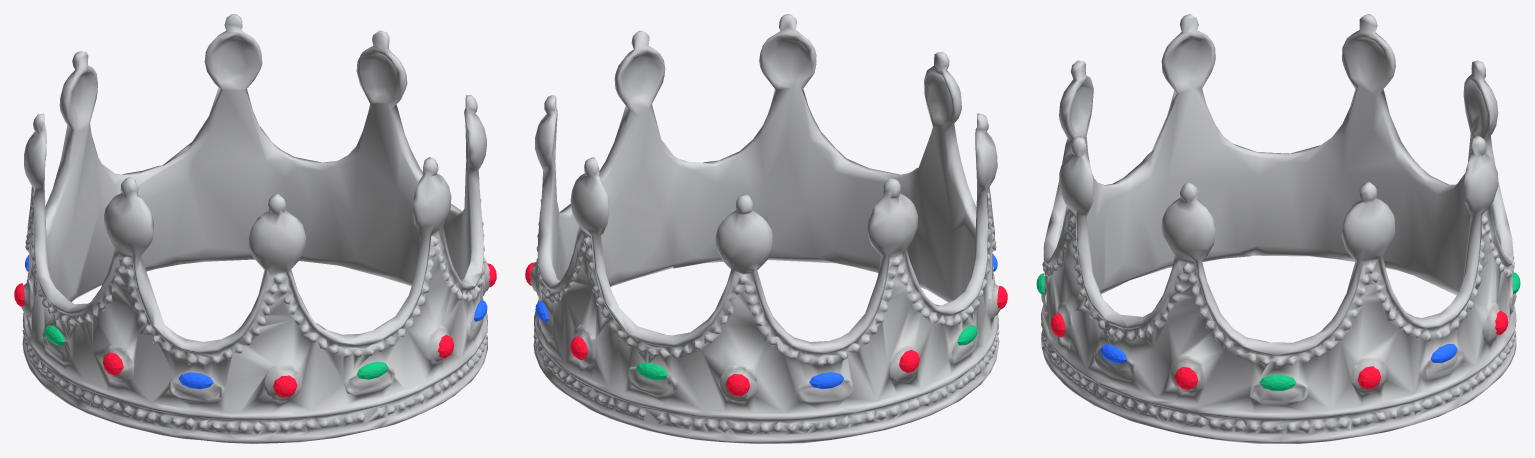
Rendered from silver-crown.glb.
The picture shows the model from 3 angles, left to right: view 1: azimuth 30°, elevation 25°; view 2: azimuth 150°, elevation 25°; view 3: azimuth 270°, elevation 25°; orthographic projection.
Parts seen in each view (by area): view 1: SilverCrown; view 2: SilverCrown; view 3: SilverCrown.
Boxes of the visible parts, x1,y1,x2,y2 form: SilverCrown: [14, 14, 496, 443]; SilverCrown: [525, 14, 1007, 443]; SilverCrown: [1036, 14, 1520, 443].
Bounding box in the file's own units: 1.93 × 1.1 × 1.93.
